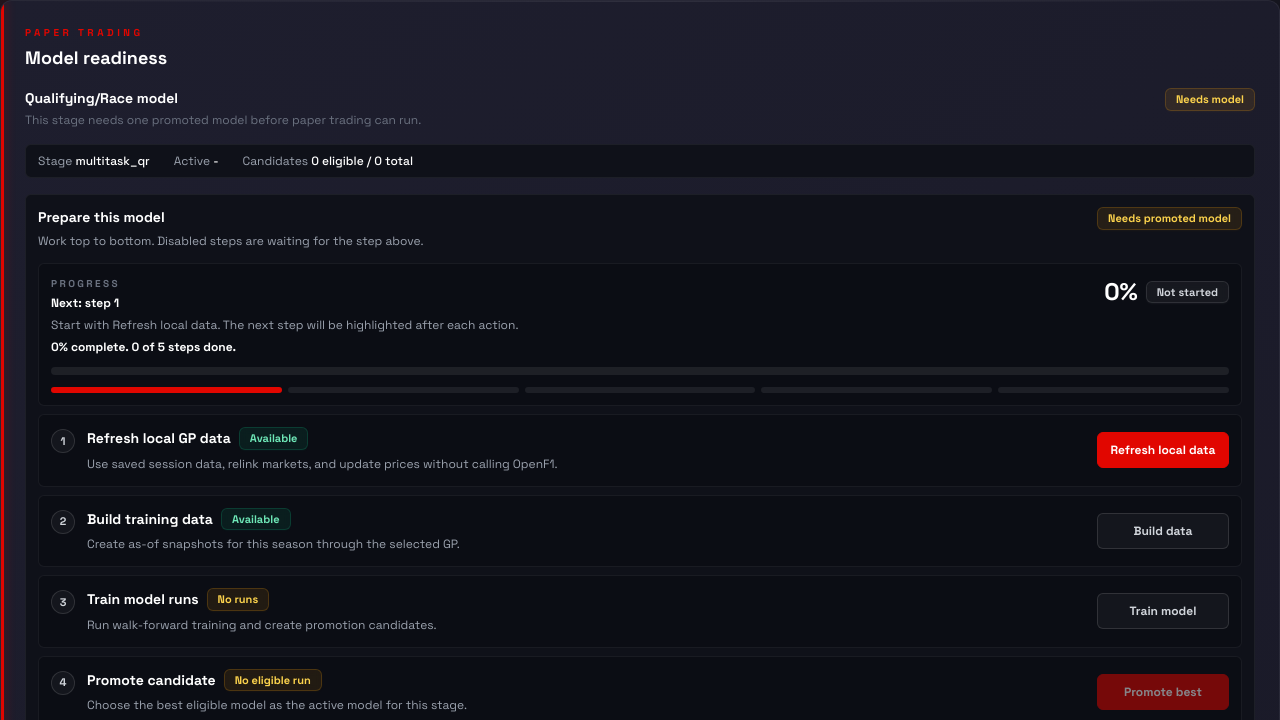
Test: ModelReadinessPanel › shows blocked workflow progress without the raw HTTP status
The width and height of the screenshot is (1280, 720).
Click the button "Train model" at {"x": 1163, "y": 611}, box [1097,593,1229,629]
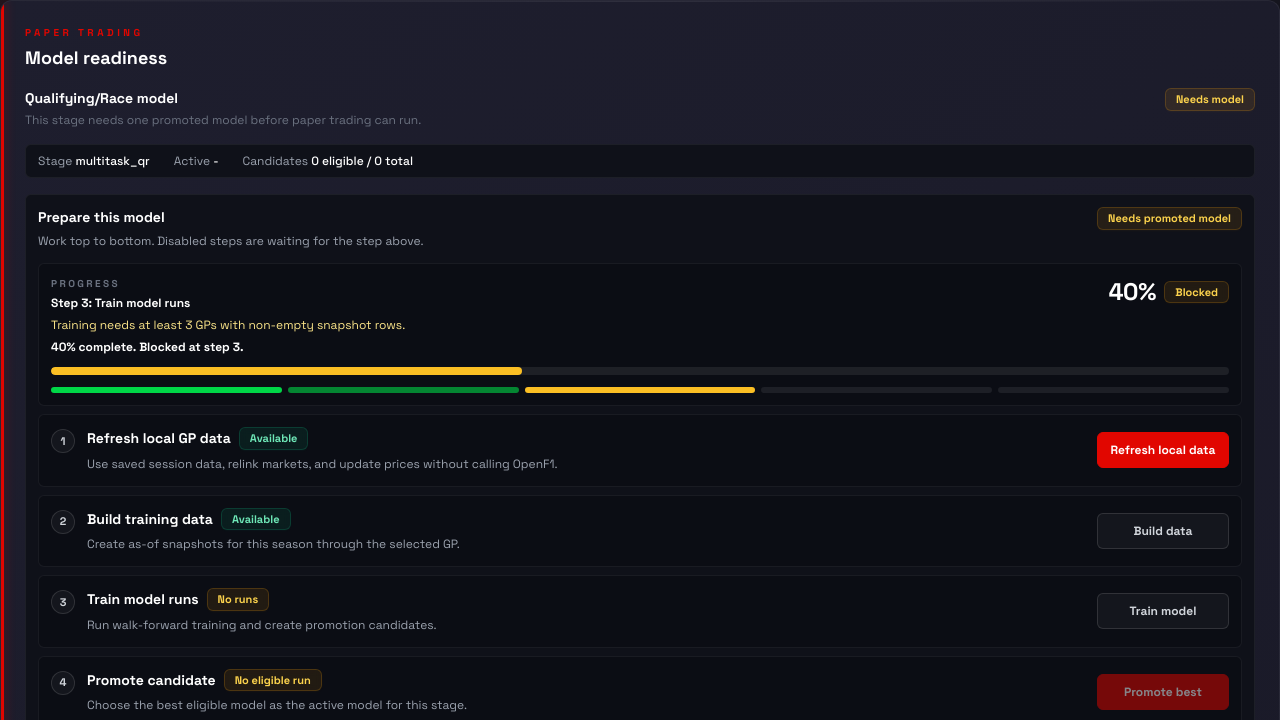
Expected: the text "Step 3: Train model runs" is shown, [51,295,190,311]
Expected: the text "Training needs at least 3 GPs with non-empty snapshot rows." is shown, [51,315,405,335]
Expected: the text "40% complete. Blocked at step 3." is shown, [51,339,244,355]
